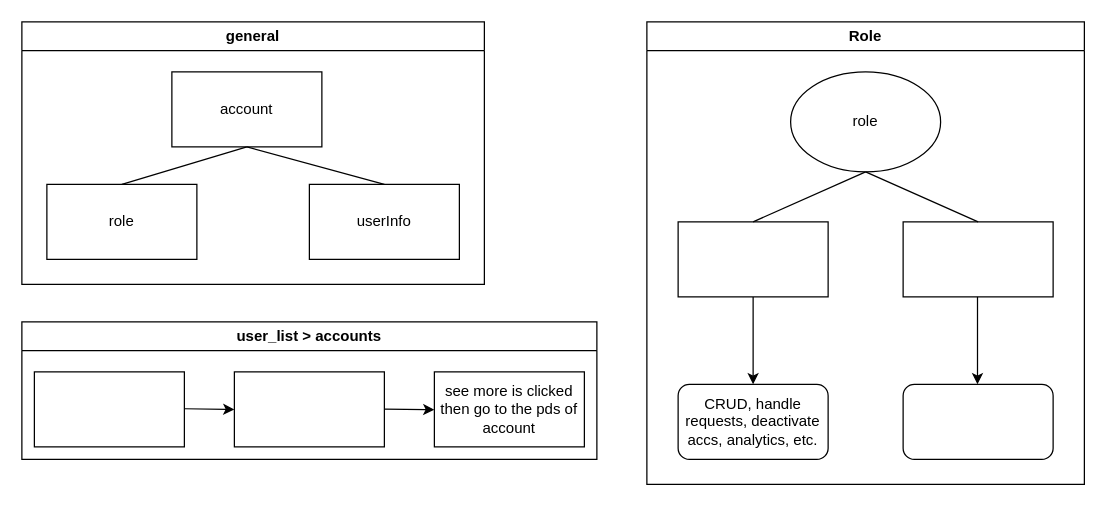
The diagram is 1106 pixels wide and 506 high, and some of its shapes have lost their labels. The centre of each missing label's shape, as x and y in pixels:
admin: (752,259)
admin clicks user name in user_list: (108,409)
CRUD: (977,421)
user: (977,259)
user profile card with see more button: (308,409)
